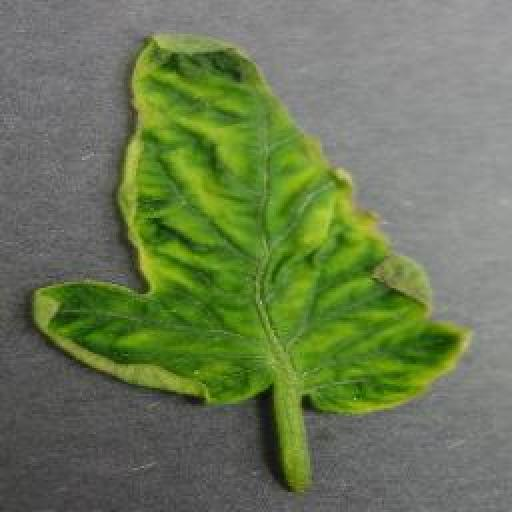disease_tomato: (30, 31, 475, 416)
